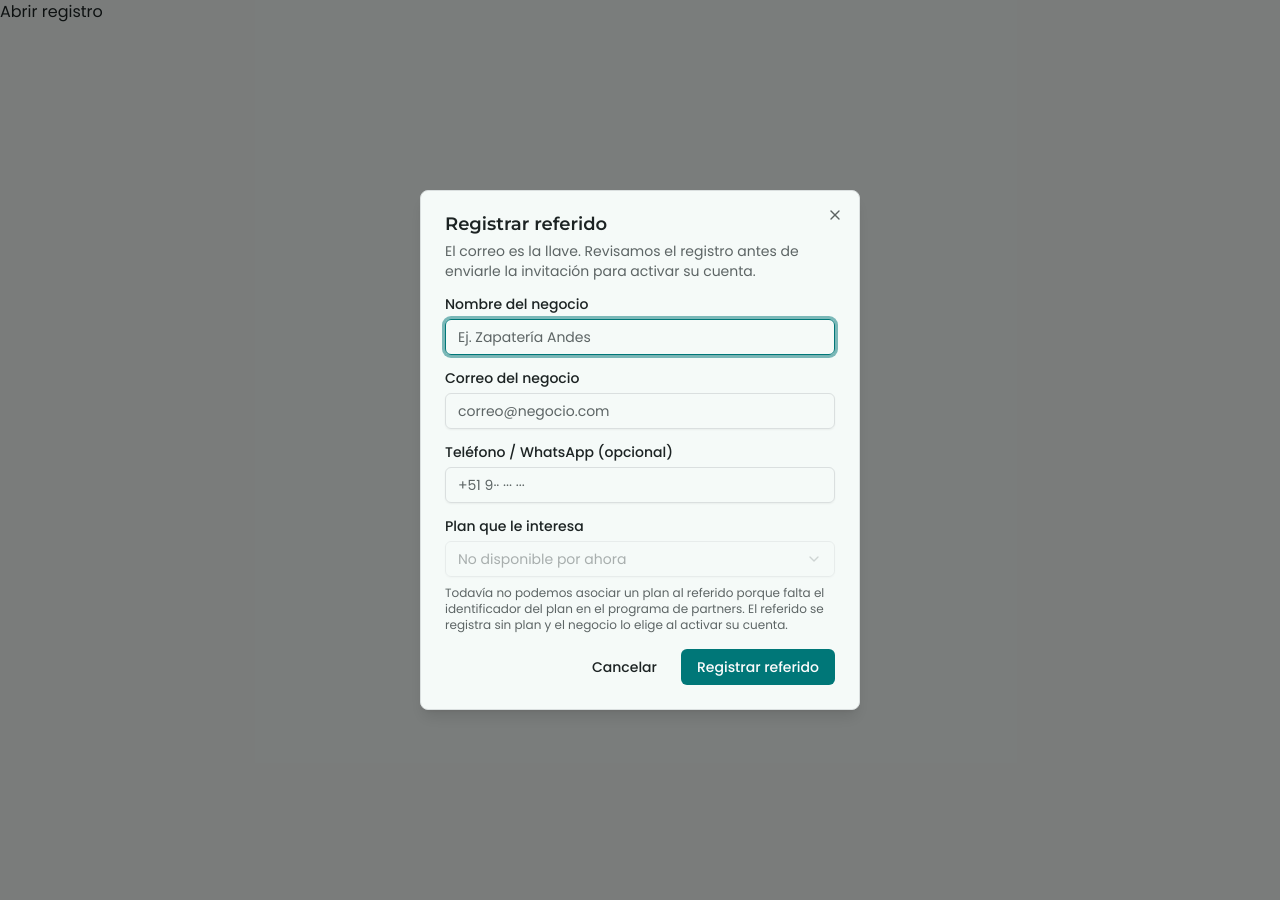
Scenario: reintento de referido con hook, servicio y mapper reales › no hace POST y avisa cuando sessionStorage está bloqueado
Type "Zapatería Andes" into the field labelled "Nombre del negocio" at (640, 337), box [445,319,835,355]
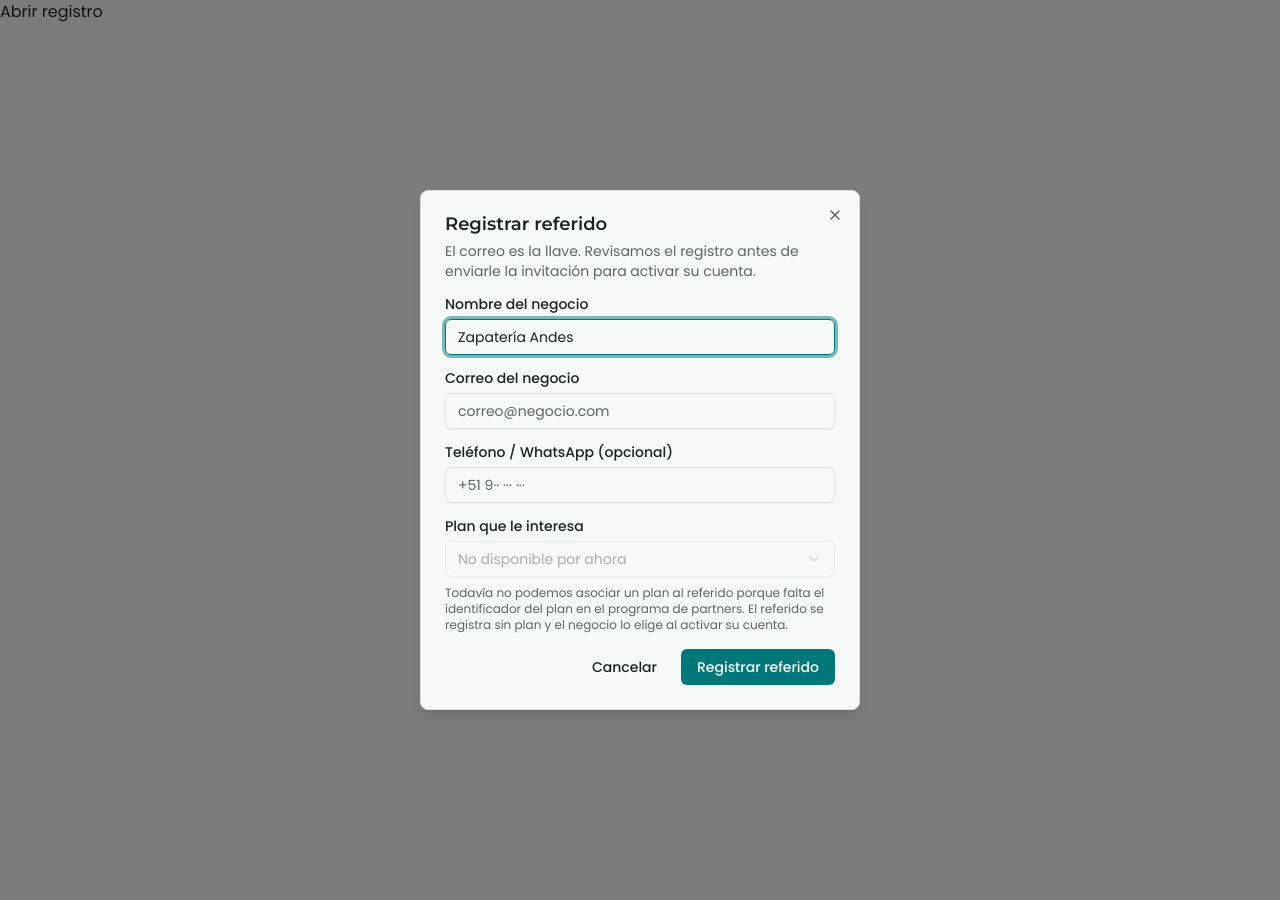
Type "andes@example.com" into the field labelled "Correo del negocio" at (640, 411), box [445,393,835,429]
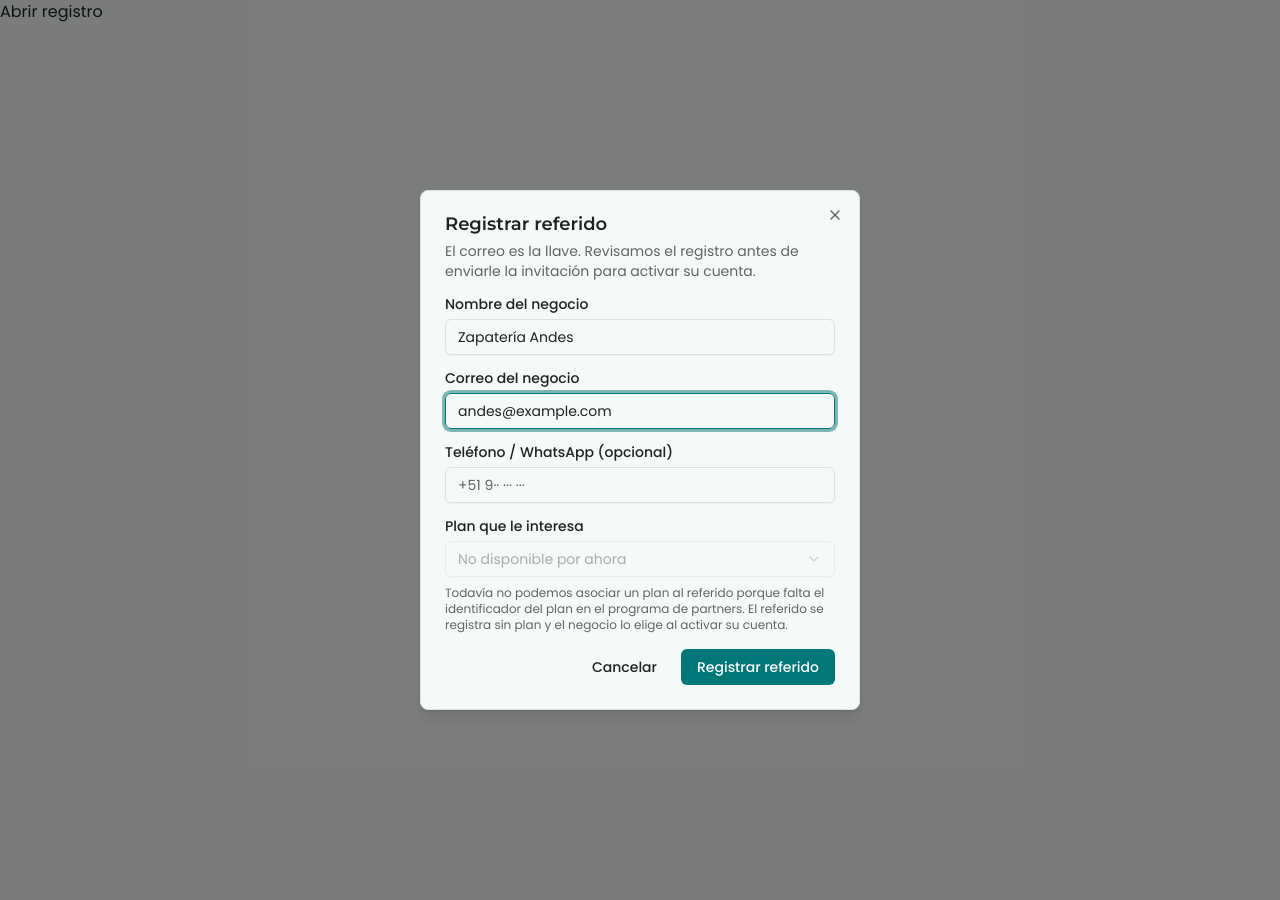
Type "+51987654321" into the field labelled "Teléfono / WhatsApp (opcional)" at (640, 485), box [445,467,835,503]
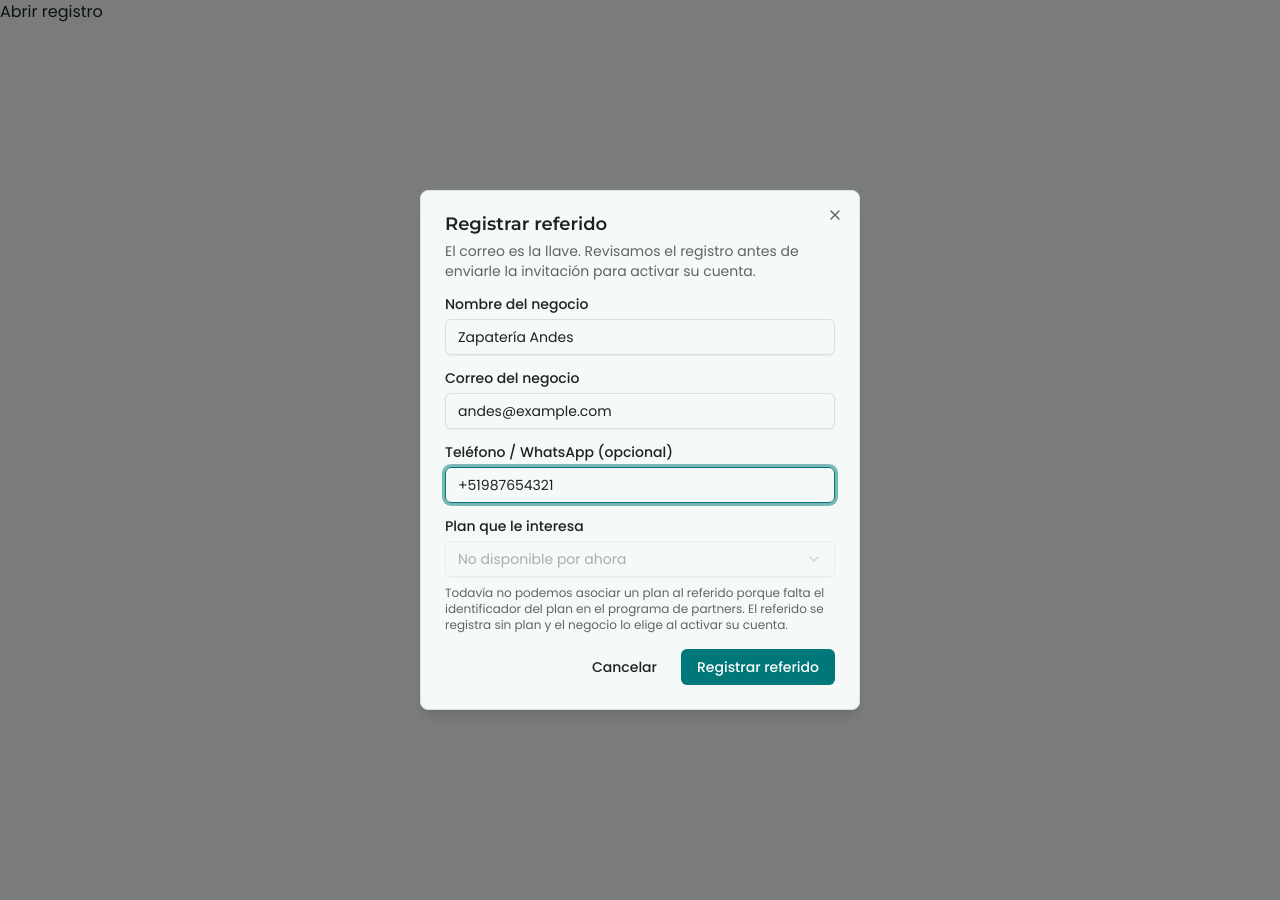
Click the button "Registrar referido" at (758, 667), box [681,649,835,685]
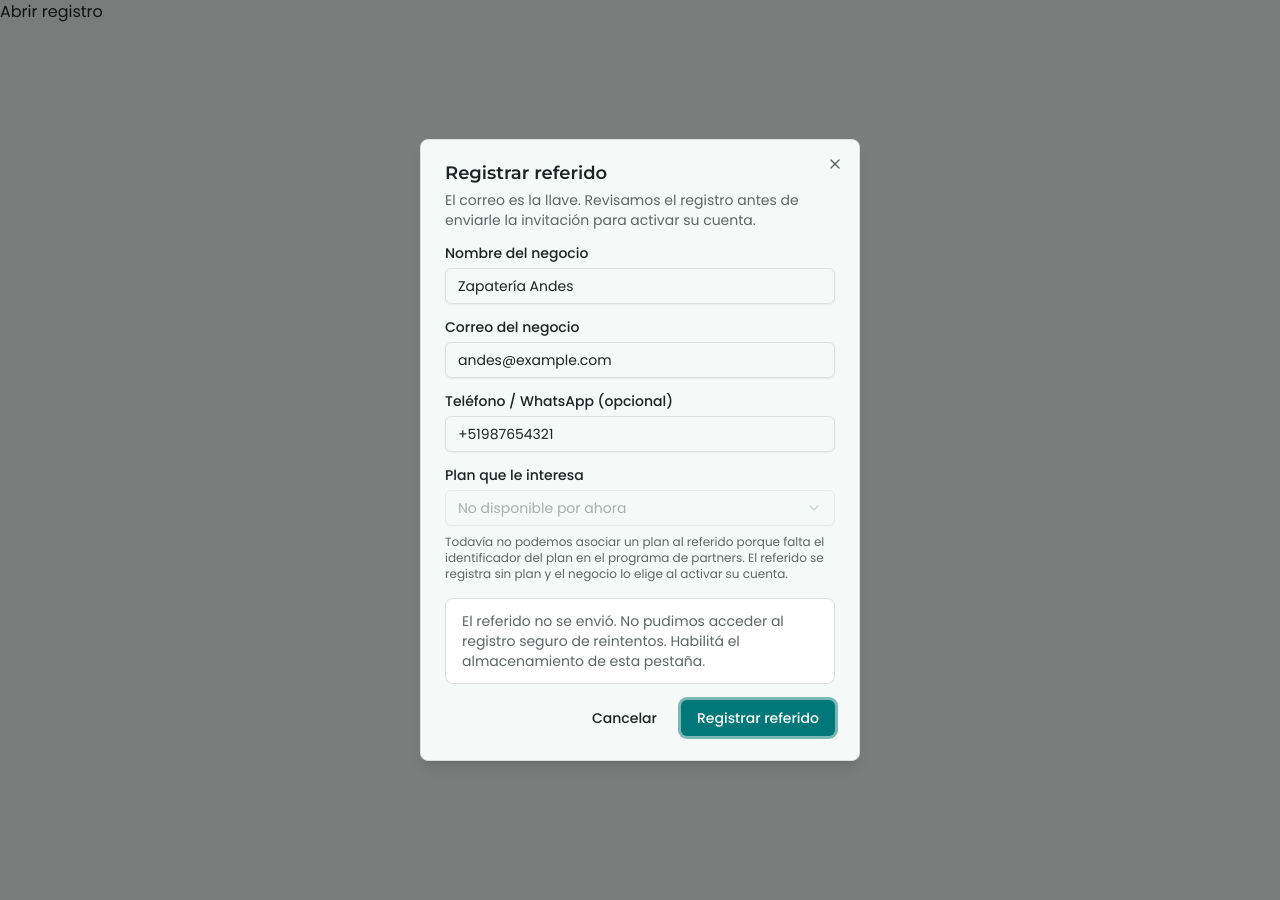
Now the message shows "El referido no se envió", box [462,611,784,671]
